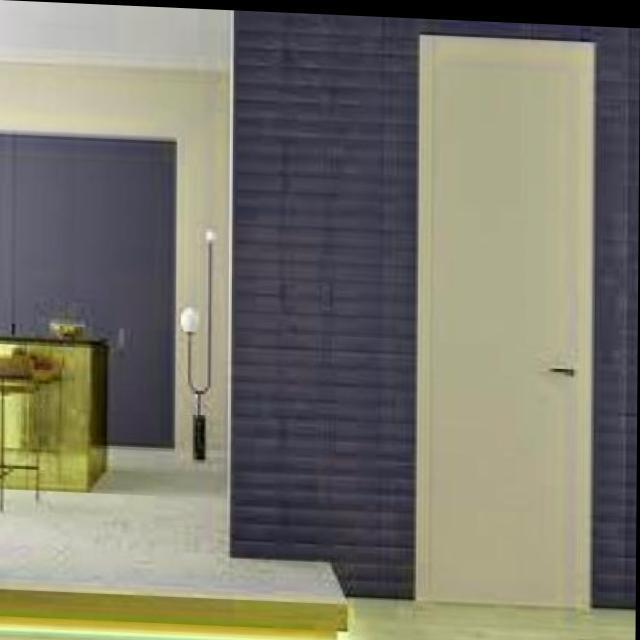door_handle: (542, 356, 583, 377)
